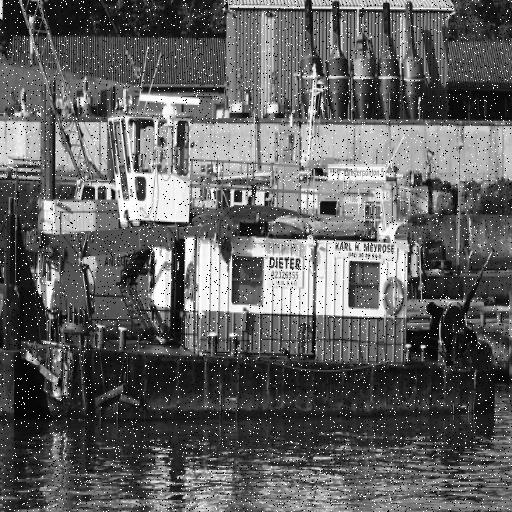tugboat: (24, 101, 506, 428)
